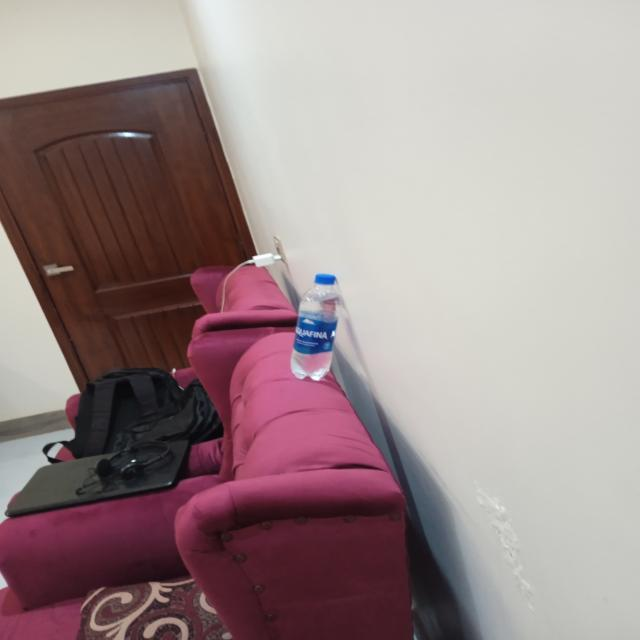Plastic: (289, 275, 341, 380)
